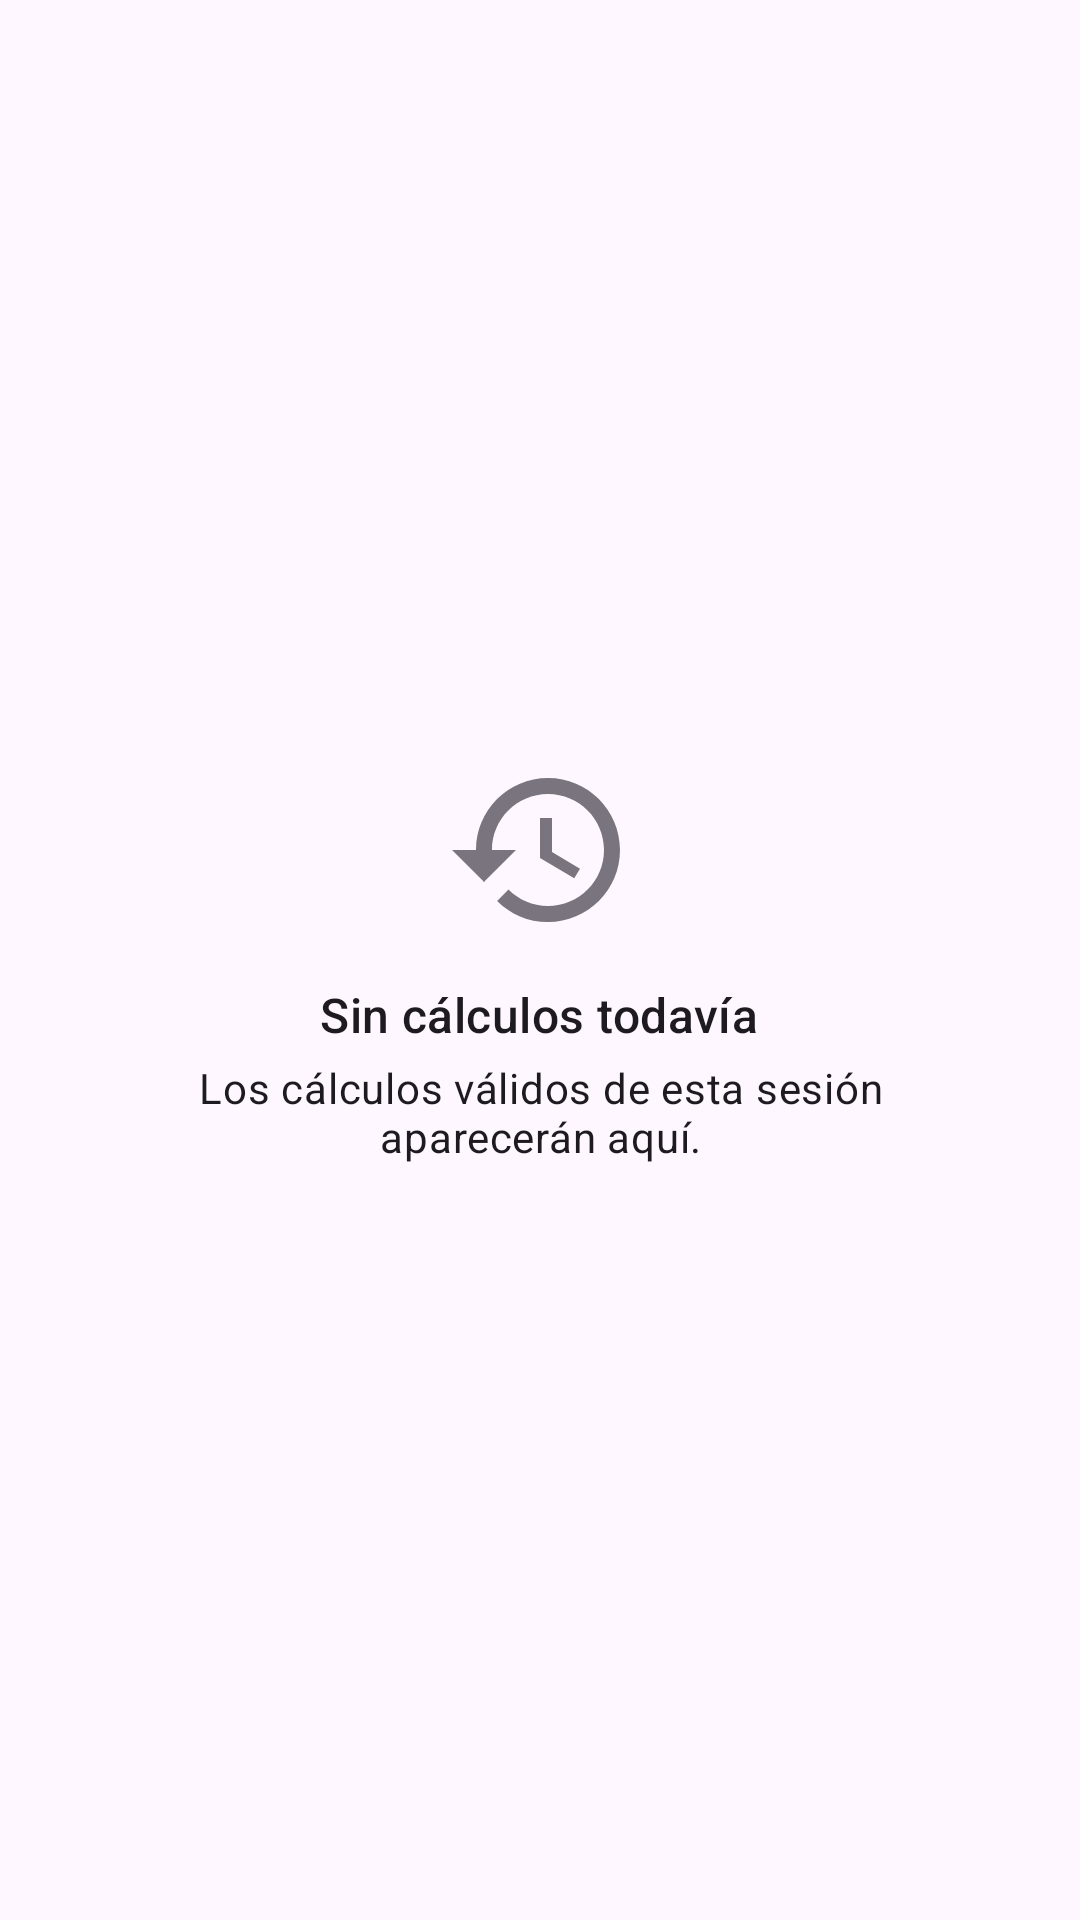

Icon bounding boxes for this 1080*1920 phone screenshot, format [x1, y1, x2, y2]:
history: [452, 778, 620, 922]
